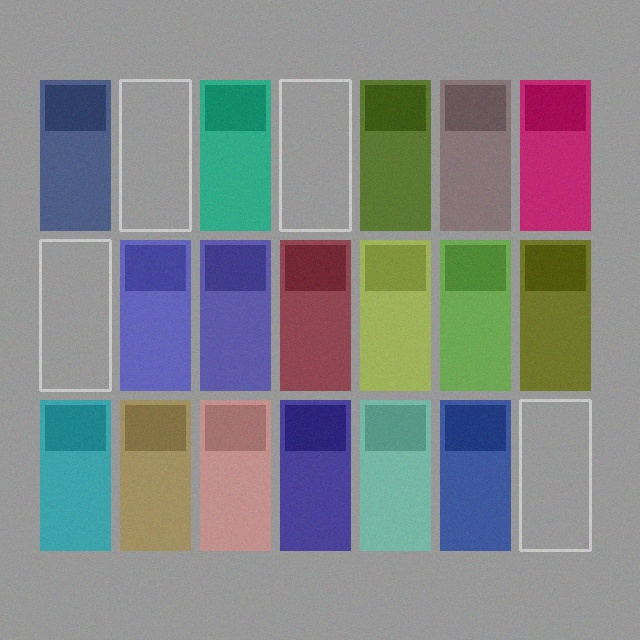space-empty: (120, 80, 190, 230), (280, 80, 350, 230), (40, 240, 110, 390), (520, 400, 590, 550)
space-occupied: (40, 80, 110, 230), (200, 80, 270, 230), (360, 80, 430, 230), (440, 80, 510, 230), (520, 80, 590, 230), (120, 240, 190, 390), (200, 240, 270, 390), (280, 240, 350, 390), (360, 240, 430, 390), (440, 240, 510, 390), (520, 240, 590, 390), (40, 400, 110, 550), (120, 400, 190, 550), (200, 400, 270, 550), (280, 400, 350, 550), (360, 400, 430, 550), (440, 400, 510, 550)
